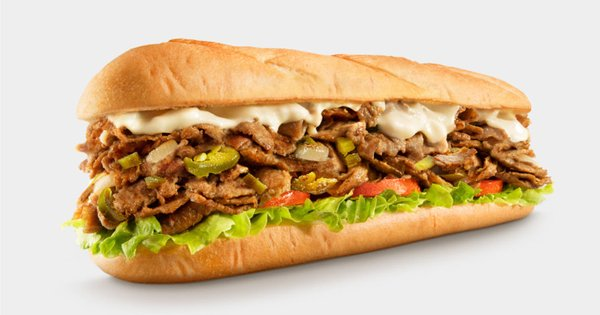soup: (62, 38, 550, 283)
